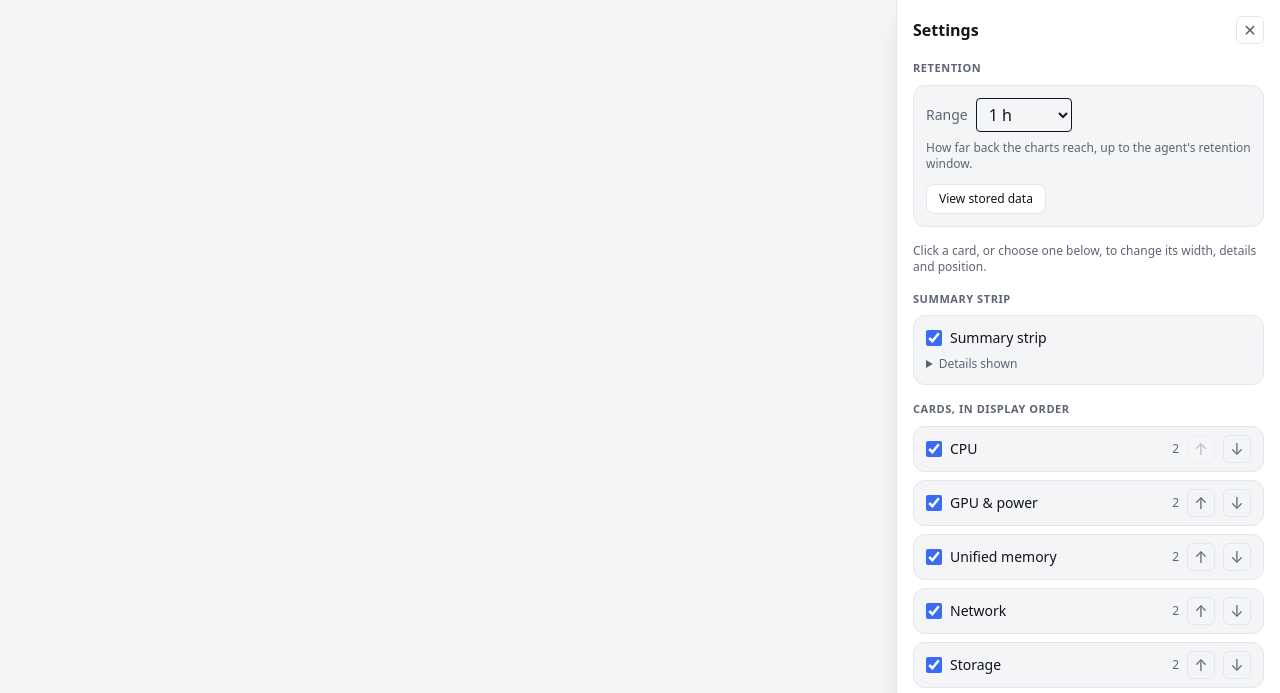
Test case: retention › reports a failure to load stored data
Click the button "View stored data" at (986, 198), box [926,184,1046,214]
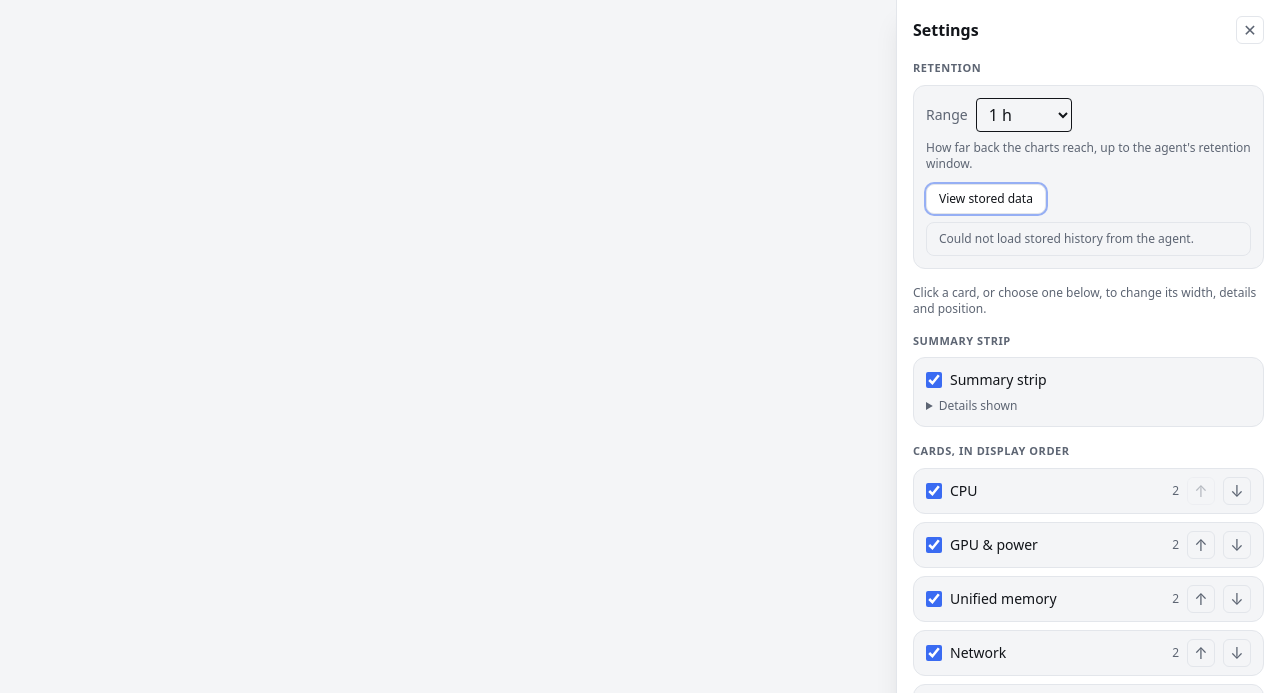
Expected: the message shows "Could not load stored history", [939,230,1194,246]
